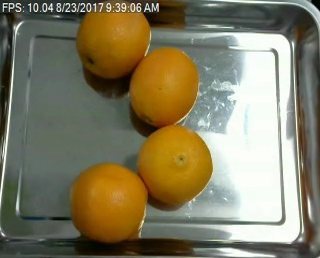Orange: (69, 163, 149, 242), (137, 126, 214, 206), (75, 1, 151, 78), (129, 45, 199, 126)
